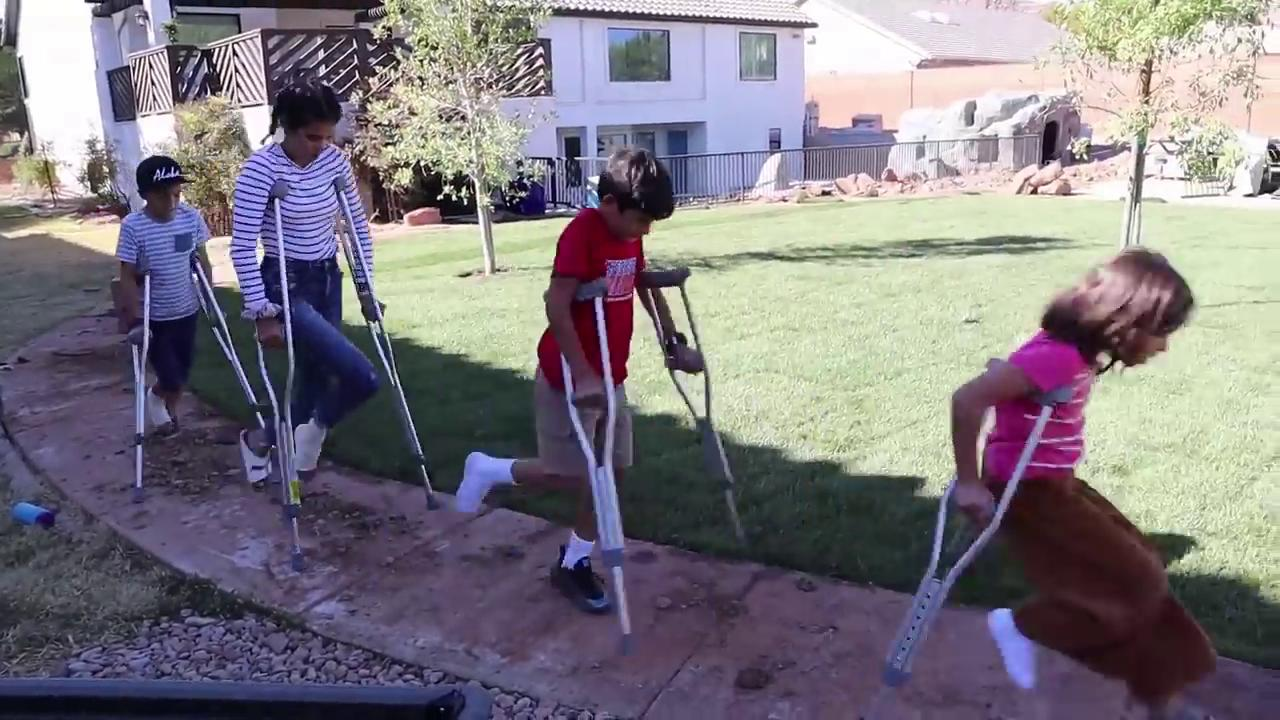crutches: (231, 84, 440, 572)
